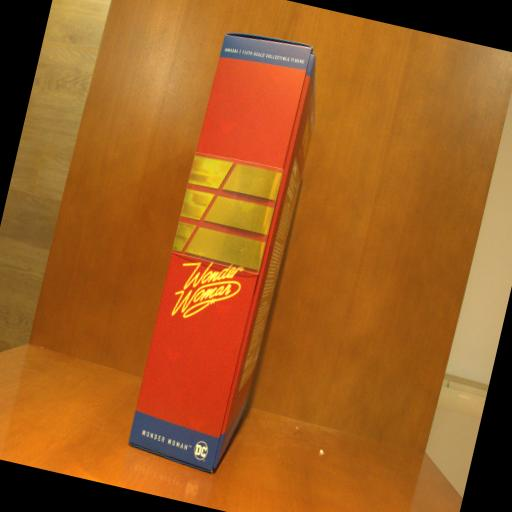WonderWoman: (124, 26, 332, 480)
